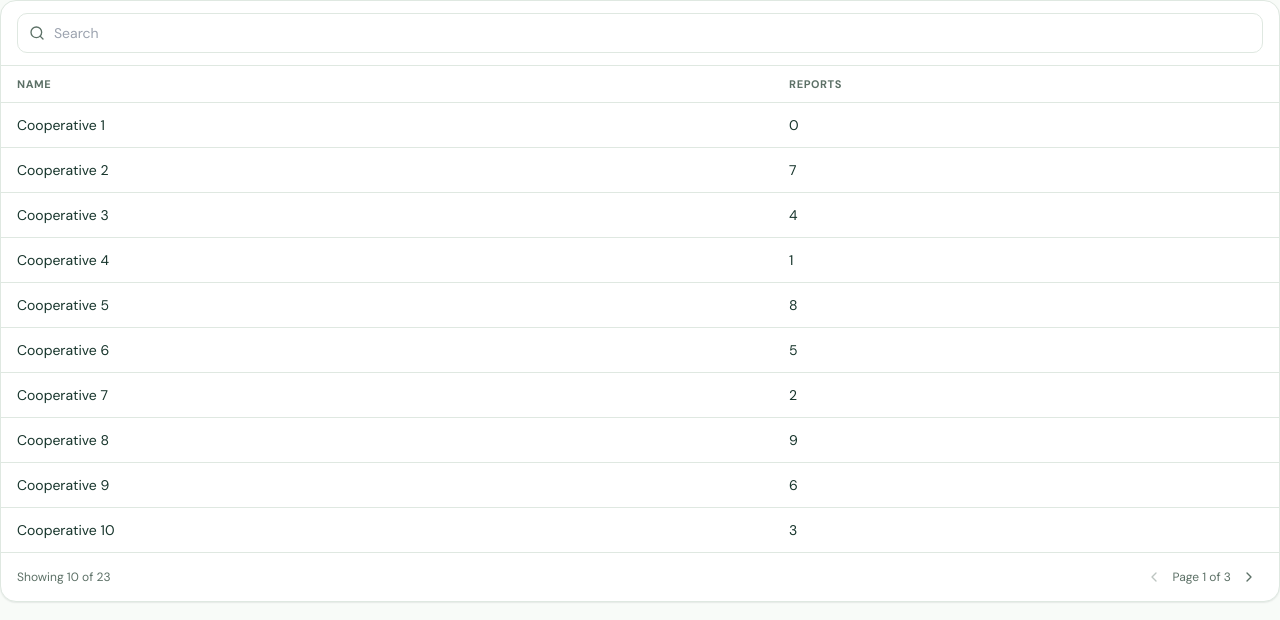
Test case: DataTable › searches
In the search field: (640, 33) [17,13,1263,53], type "Cooperative 23"
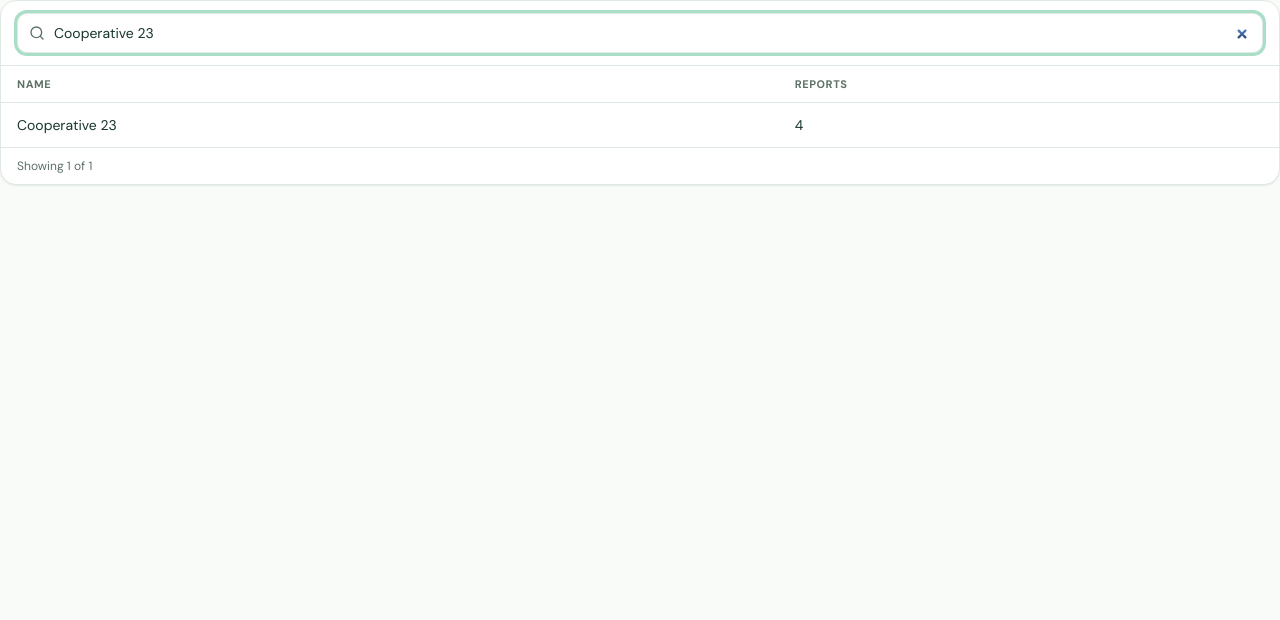
Check: the number of rows is 2, box [1,66,1279,102]; [1,103,1279,147]
